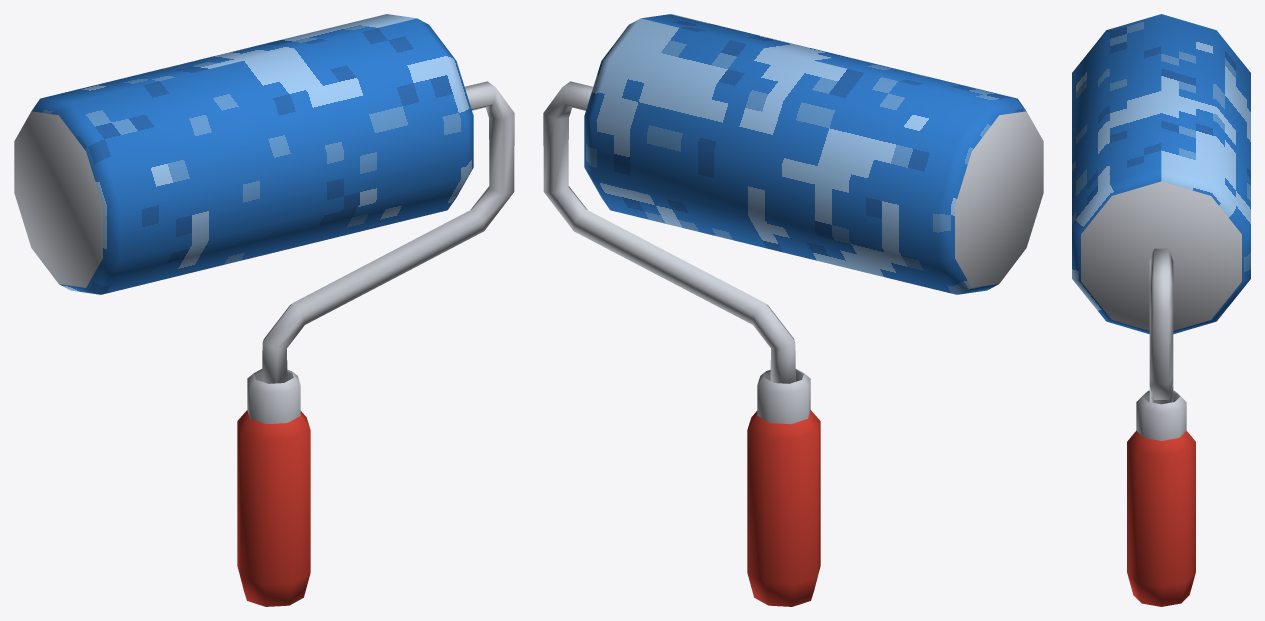
Rendered from moreA-paintRoller.glb.
3 views of the same model, side by side, from view 1: azimuth 30°, elevation 25°; view 2: azimuth 150°, elevation 25°; view 3: azimuth 270°, elevation 25° (orthographic). The views are drawn at different scales.
Visible parts, largest first — view 1: moreA.paintRoller; view 2: moreA.paintRoller; view 3: moreA.paintRoller.
Boxes of the visible parts, <box> form: moreA.paintRoller: <box>14,14,514,606</box>; moreA.paintRoller: <box>543,14,1043,606</box>; moreA.paintRoller: <box>1072,14,1250,606</box>.
Size of the model in its own units: 1.33 by 1.54 by 0.5033.
Materials: 3 (3 with a texture image).
